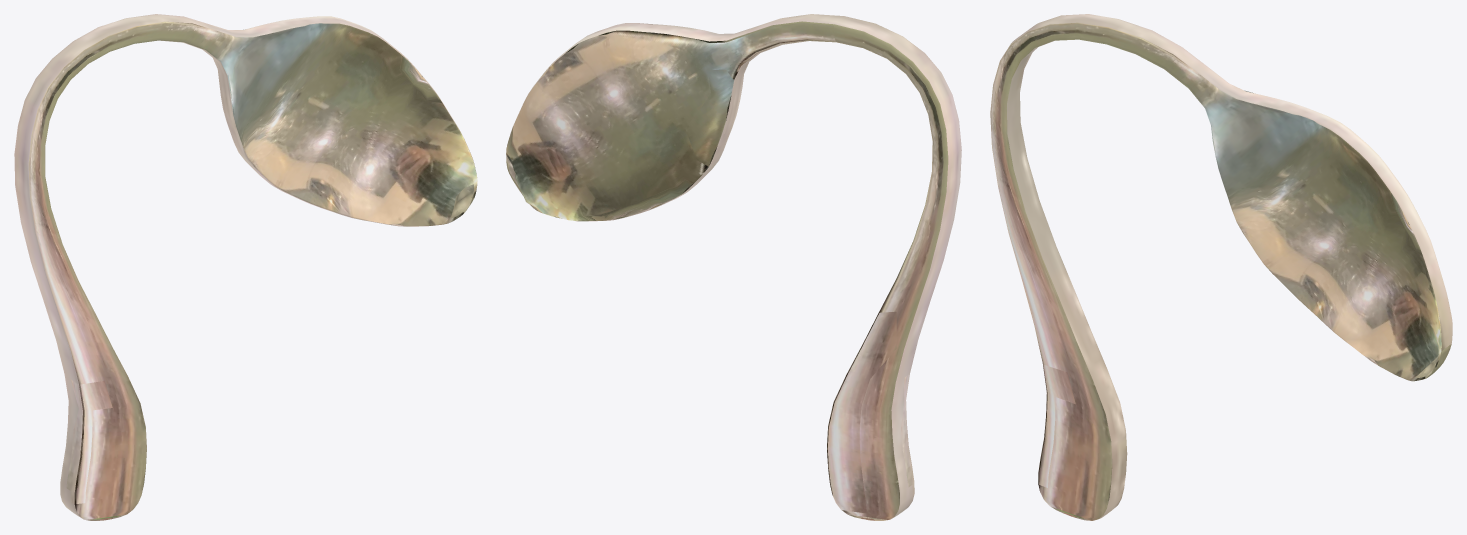
The model's file is working.glb.
The picture shows the model from 3 angles, left to right: view 1: azimuth 30°, elevation 25°; view 2: azimuth 150°, elevation 25°; view 3: azimuth 330°, elevation 25°; orthographic projection. The views are drawn at different scales.
Parts seen in each view (by area): view 1: Spoon.001; view 2: Spoon.001; view 3: Spoon.001.
Boxes of the visible parts, left/top/right/bottom form: Spoon.001: left=14, top=14, right=477, bottom=520; Spoon.001: left=506, top=14, right=961, bottom=520; Spoon.001: left=990, top=14, right=1452, bottom=520.
Bounding box in the file's own units: 0.8869 × 0.9225 × 0.1149.
1 material, 1 textured.
